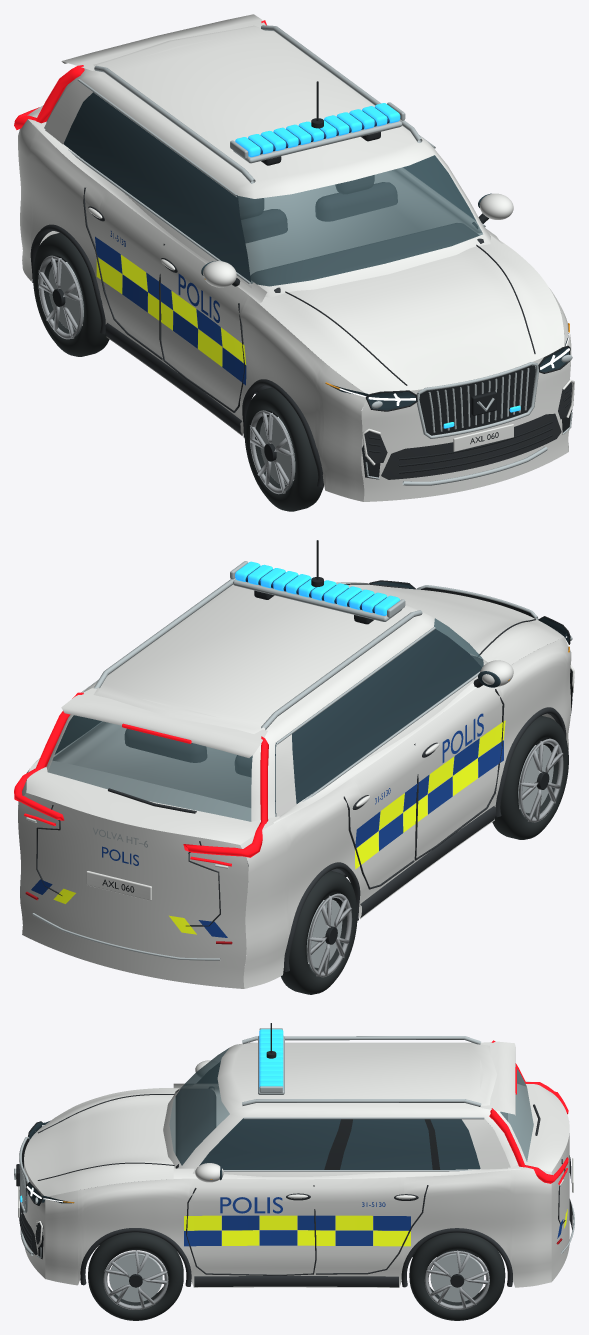
Rendered from police_suv.glb.
3 views of the same model, one above another, from view 1: azimuth 30°, elevation 25°; view 2: azimuth 150°, elevation 25°; view 3: azimuth 270°, elevation 25° (orthographic). The views are drawn at different scales.
Visible parts, largest first — view 1: XC60 ceramic white, Grained lower cladding, Satin silver mouldings, XC60 grille basalt, Performance tire XC60 front left, Performance tire XC60 rear left, Polis ultramarine, Polis fluorescent lime, XC60 solar glass, Tail lamp XC60 red blade; view 2: XC60 ceramic white, Grained lower cladding, Performance tire XC60 front left, Performance tire XC60 rear left, Satin silver mouldings, Polis ultramarine, Polis fluorescent lime, Tail lamp XC60 red blade, XC60 grille basalt, XC60 solar glass; view 3: XC60 ceramic white, Grained lower cladding, Performance tire XC60 front right, Performance tire XC60 rear right, Satin silver mouldings, Polis ultramarine, Polis fluorescent lime, XC60 grille basalt, Tail lamp XC60 red blade.
Part boxes in pixels (bbox=[...]): XC60 ceramic white: bbox=[18, 14, 574, 501]; Grained lower cladding: bbox=[30, 175, 572, 487]; Satin silver mouldings: bbox=[68, 25, 572, 485]; XC60 grille basalt: bbox=[232, 81, 572, 479]; Performance tire XC60 front left: bbox=[244, 387, 323, 511]; Performance tire XC60 rear left: bbox=[33, 233, 109, 356]; Polis ultramarine: bbox=[95, 231, 246, 385]; Polis fluorescent lime: bbox=[96, 255, 246, 366]; XC60 solar glass: bbox=[201, 193, 568, 410]; Tail lamp XC60 red blade: bbox=[14, 20, 266, 129]; XC60 ceramic white: bbox=[18, 581, 574, 988]; Grained lower cladding: bbox=[36, 583, 572, 971]; Performance tire XC60 front left: bbox=[492, 715, 568, 839]; Performance tire XC60 rear left: bbox=[281, 870, 357, 994]; Satin silver mouldings: bbox=[32, 561, 572, 960]; Polis ultramarine: bbox=[31, 713, 503, 937]; Polis fluorescent lime: bbox=[53, 720, 505, 934]; Tail lamp XC60 red blade: bbox=[14, 692, 268, 866]; XC60 grille basalt: bbox=[102, 540, 572, 892]; XC60 solar glass: bbox=[372, 581, 569, 687]; XC60 ceramic white: bbox=[18, 1041, 573, 1287]; Grained lower cladding: bbox=[21, 1089, 572, 1287]; Performance tire XC60 front right: bbox=[88, 1232, 183, 1320]; Performance tire XC60 rear right: bbox=[409, 1232, 505, 1320]; Satin silver mouldings: bbox=[14, 1028, 574, 1258]; Polis ultramarine: bbox=[184, 1197, 563, 1246]; Polis fluorescent lime: bbox=[184, 1209, 567, 1246]; XC60 grille basalt: bbox=[16, 1023, 440, 1259]; Tail lamp XC60 red blade: bbox=[489, 1040, 568, 1184].
Bounding box in the file's own units: 2.38 × 2.46 × 4.99.
